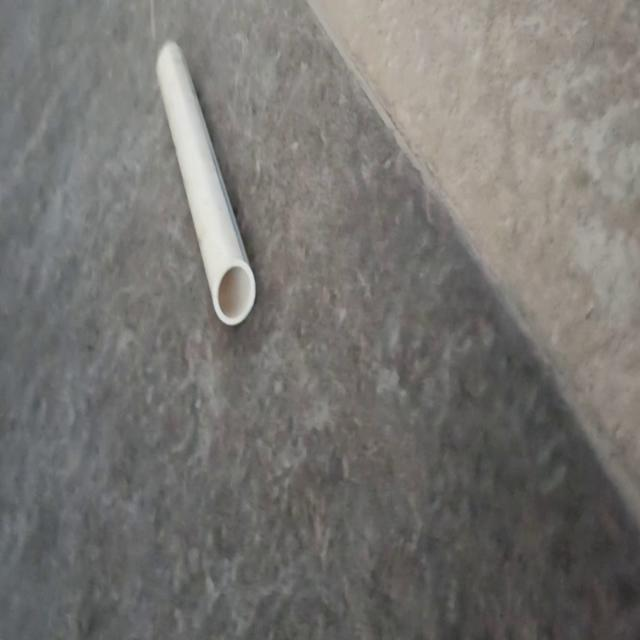Cube: (154, 38, 256, 327)
